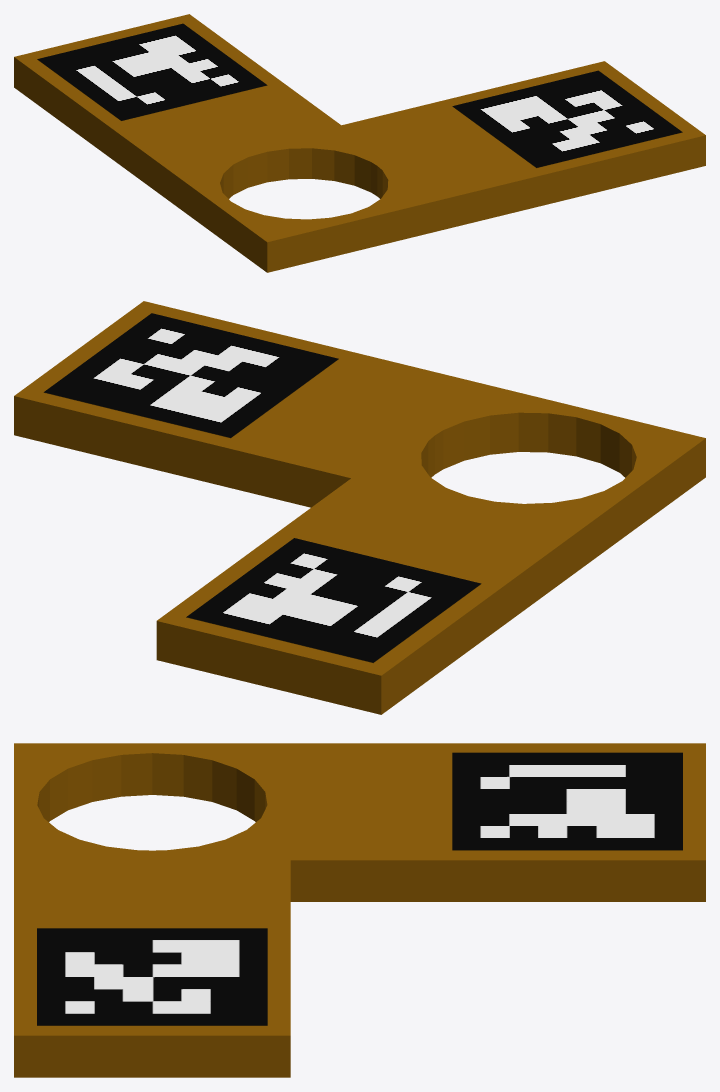
The model's file is cup_jig.dae.
3 renders of one model, top to bottom at view 1: azimuth 30°, elevation 25°; view 2: azimuth 150°, elevation 25°; view 3: azimuth 270°, elevation 25°, orthographic. The views are drawn at different scales.
Visible parts, largest first — view 1: cup_jig; view 2: cup_jig; view 3: cup_jig.
Boxes of the visible parts, x1,y1,x2,y2 form: cup_jig: (14,14,705,272); cup_jig: (14,301,705,714); cup_jig: (14,743,705,1077).
Size of the model in its own units: 0.15 by 0.15 by 0.0101.
